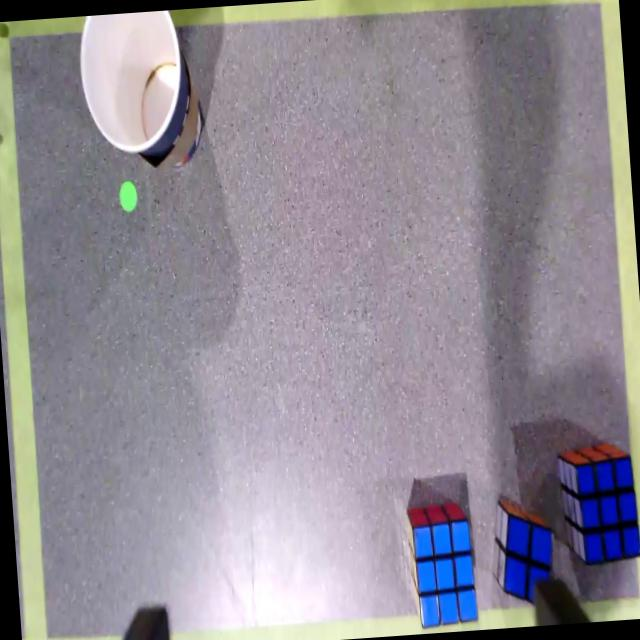cube2-blue: (504, 514, 552, 609)
cube3-blue: (575, 455, 640, 563), (414, 521, 478, 627)
